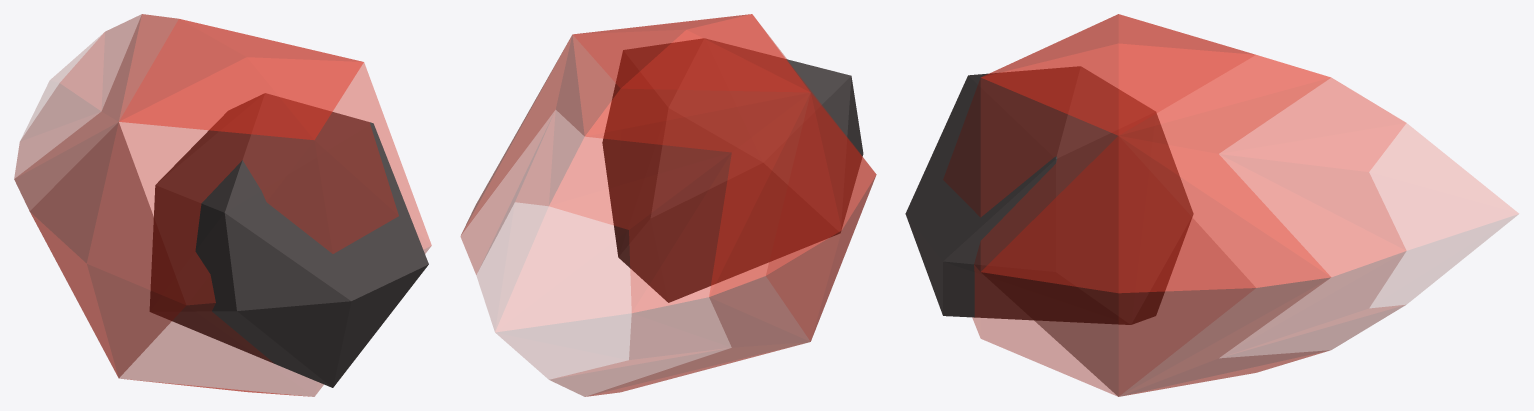
Rendered from bat_projectile.glb.
3 renders of one model, left to right at view 1: azimuth 30°, elevation 25°; view 2: azimuth 150°, elevation 25°; view 3: azimuth 270°, elevation 25°, orthographic. The views are drawn at different scales.
Bounding box in the file's own units: 30 × 30 × 49.
2 materials, 2 textured.
